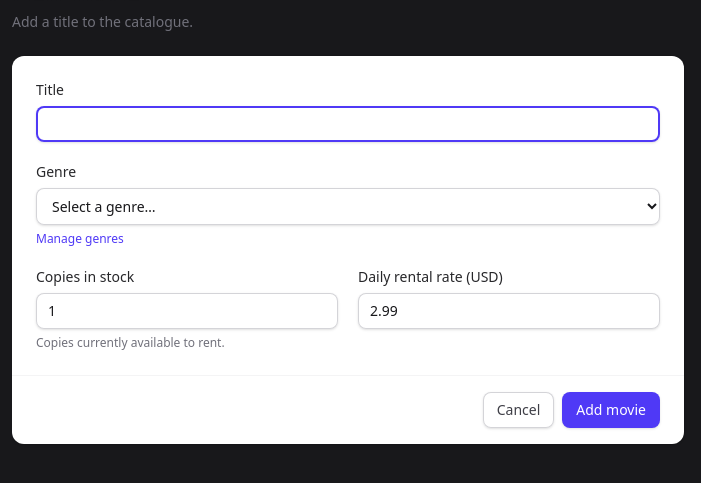
Test: MovieFormPage › shows server-side field errors next to the field
Type "Heat" into the field labelled "Title" at coordinates (348, 124), box x1=36 y1=106 x2=660 y2=142
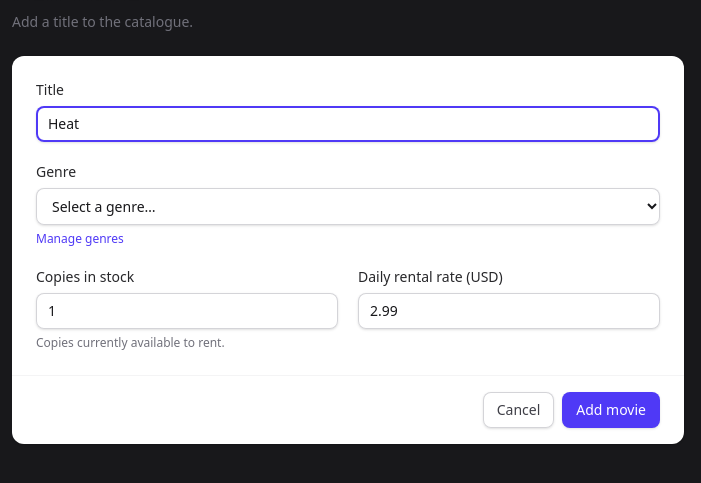
Select "Drama" in the dropdown labelled "Genre" at coordinates (348, 206), box x1=36 y1=188 x2=660 y2=225
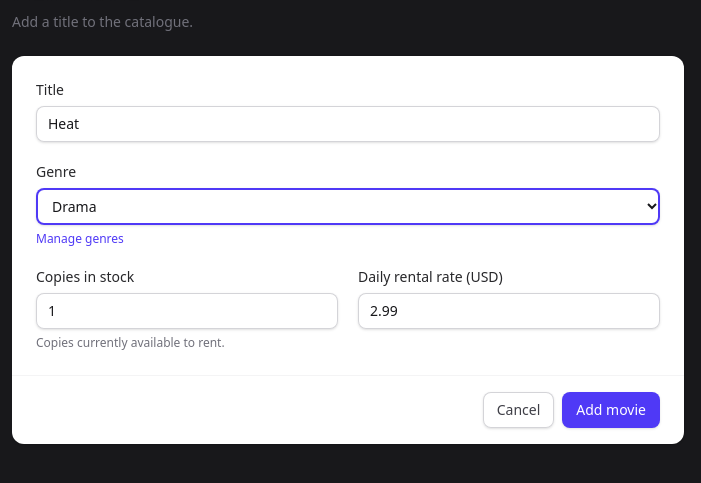
Click the button "Add movie" at coordinates (611, 410), box x1=562 y1=392 x2=660 y2=428
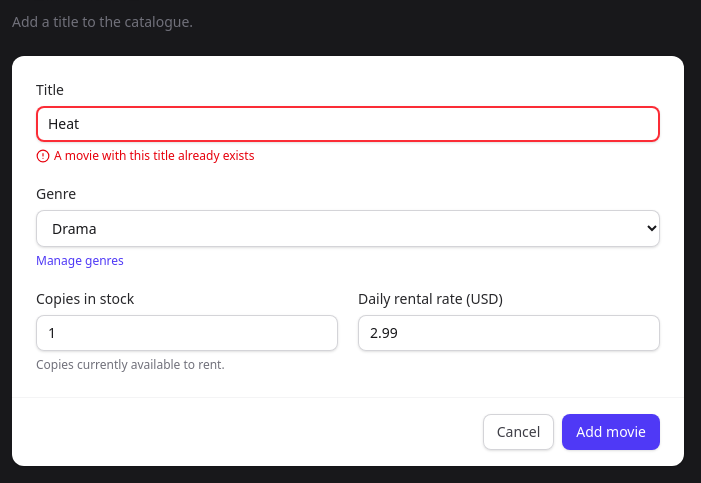
Expected: the text "A movie with this title already exists" is shown, x1=36 y1=147 x2=254 y2=164
